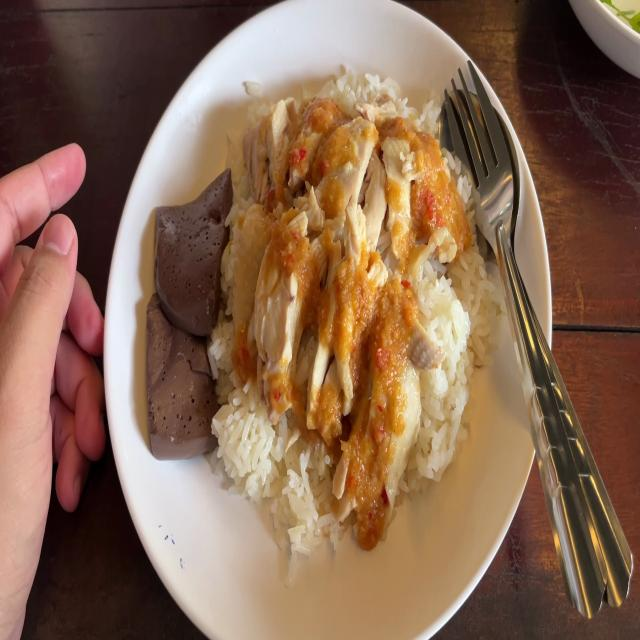boiled_chicken: (241, 90, 431, 492)
boiled_chicken_blood_jelly: (147, 166, 226, 330), (143, 289, 218, 459)
chicken_rice: (136, 67, 496, 558)
